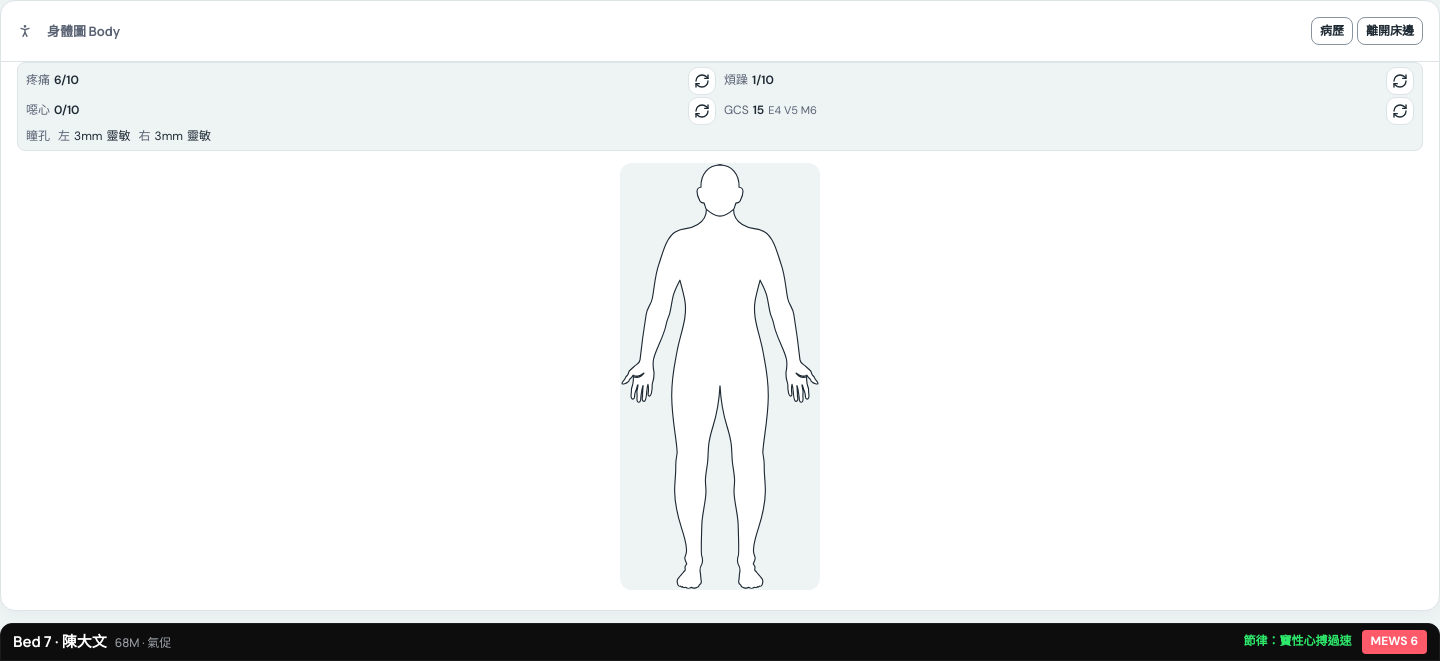
Scenario: 房間取代平面圖 › 病歷的 MAR 逐次顯示預定與已給的劑次
Click the button with test id "open-medical-record". click: (1332, 31)
box: [1311,17,1353,45]
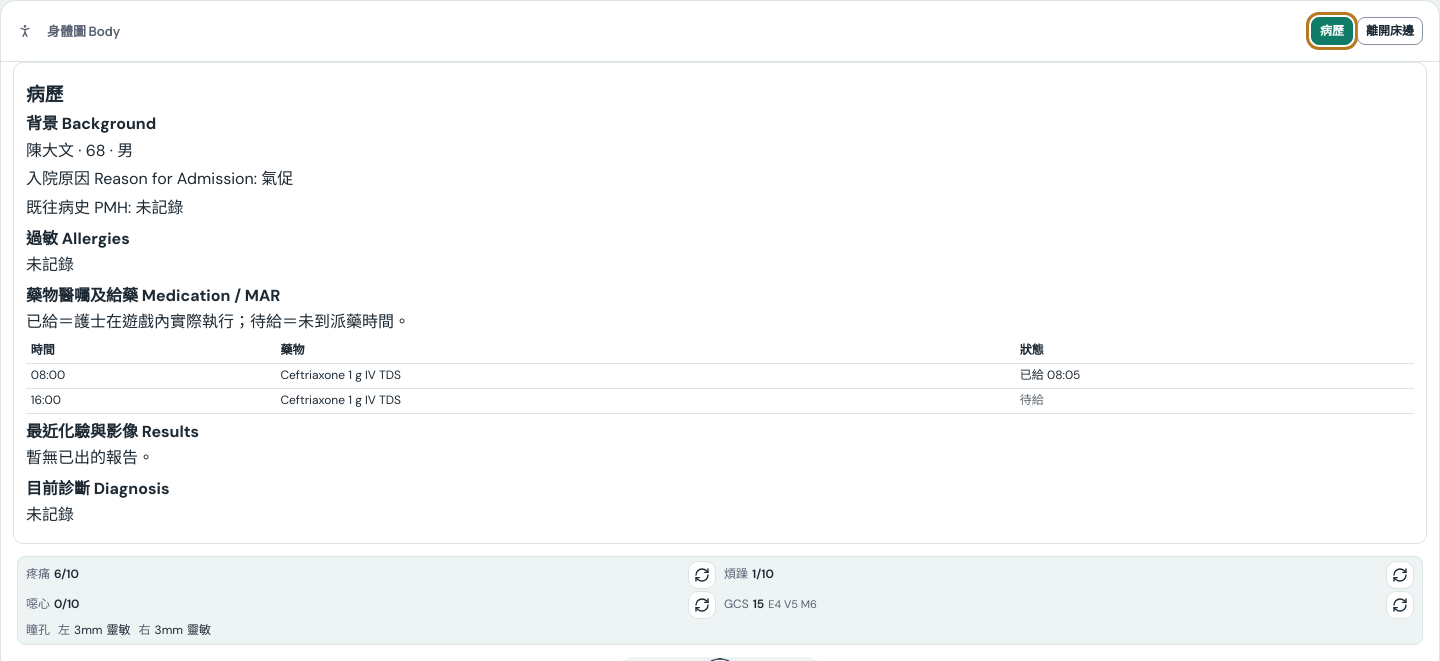
Expected: the number of rows is 3, [26,339,1414,364]; [26,364,1414,389]; [26,388,1414,414]
Expected: the row "08:00 Ceftriaxone 1 g IV TDS 已給 08:05" is shown, [26,364,1414,389]
Expected: the row "16:00 Ceftriaxone 1 g IV TDS 待給" is shown, [26,388,1414,414]
